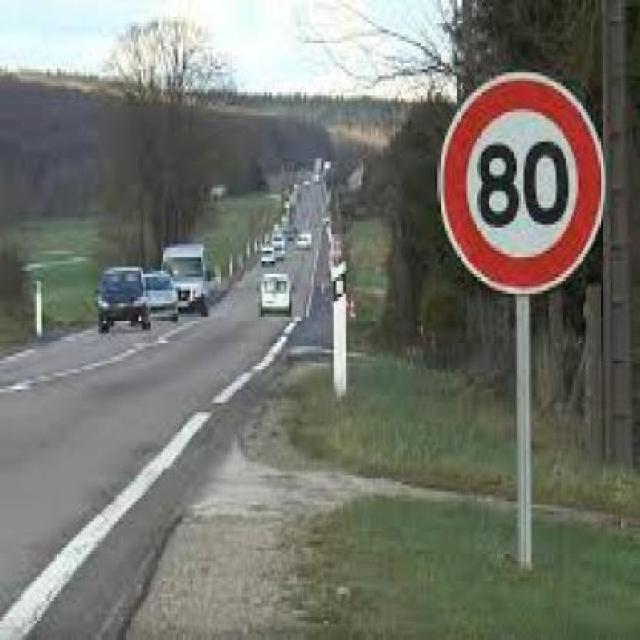forb_speed_over_80: (443, 70, 609, 290)
